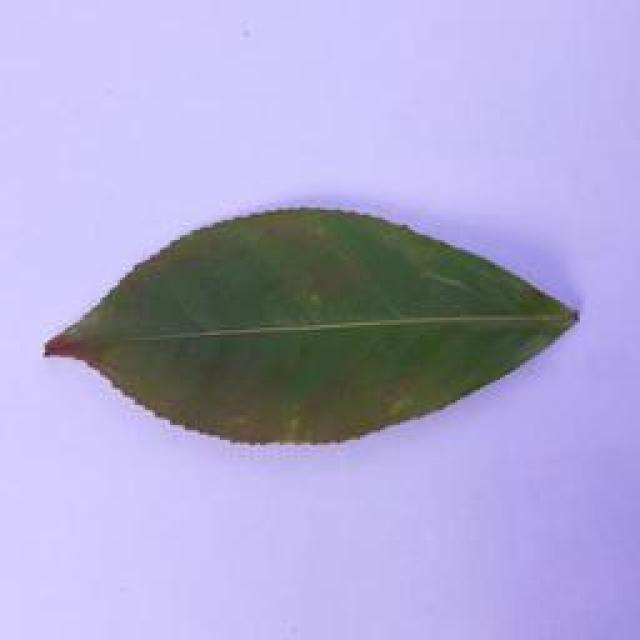Red Leaf Spot: (49, 186, 592, 462)
